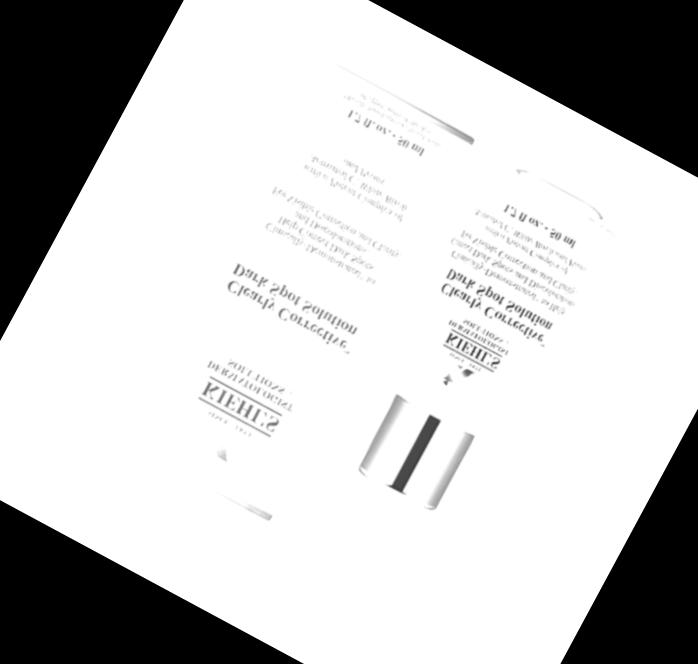cosmetic: (302, 168, 615, 592)
